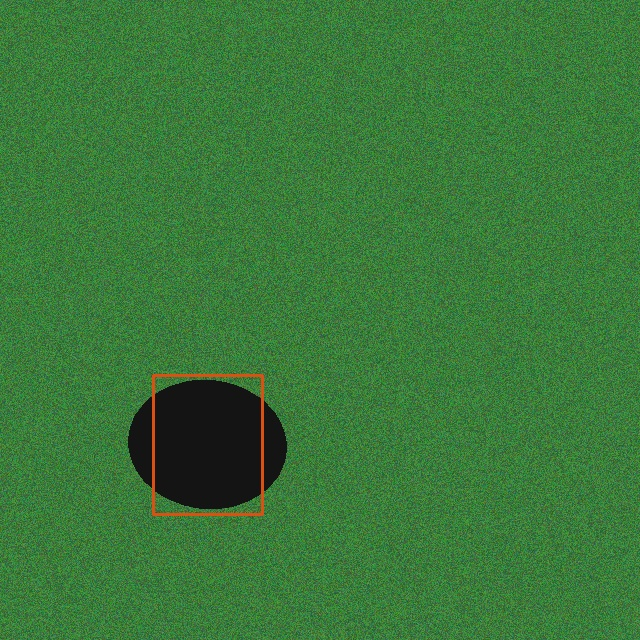blister beetle: (143, 365, 272, 524)
